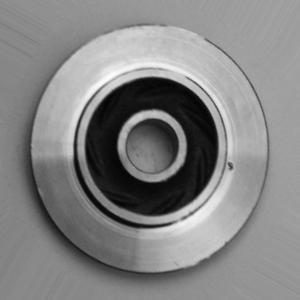crack: (222, 156, 244, 186)
unpolished_casting: (27, 22, 271, 278)
